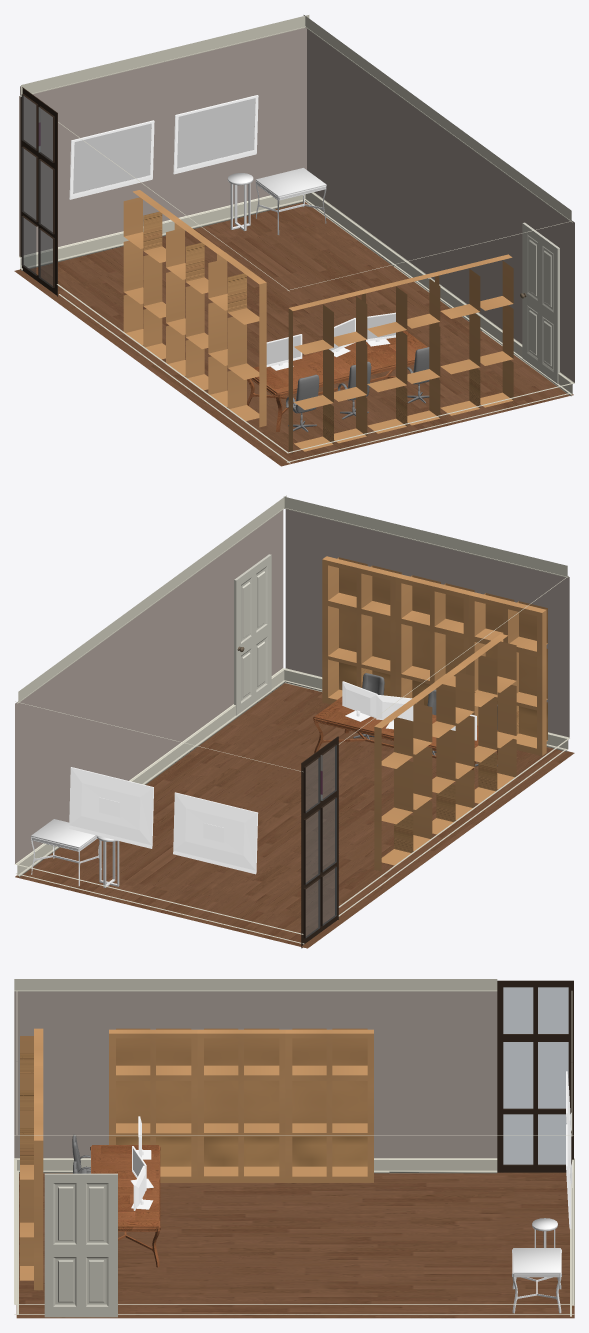
Rendered from Room_Traditional.glb.
3 renders of one model, top to bottom at view 1: azimuth 30°, elevation 25°; view 2: azimuth 150°, elevation 25°; view 3: azimuth 270°, elevation 25°, orthographic. The views are drawn at different scales.
Visible parts, largest first — view 1: Room_Traditional_Floor, Room_Traditional_Panel (1), Room_Traditional_Panel, Room_Traditional_Panel (5), Room_Traditional_Panel (8), Room_Traditional_Panel (4), TV_screen (×2), Room_Rustic_Window, Room_Rustic_Window (6), Room_Rustic_Window (2), Room_Rustic_Window (1), Room_Rustic_Window (5) (+12 smaller); view 2: Room_Traditional_Floor, Room_Traditional_Panel (8), Room_Traditional_Panel (5), Room_Traditional_Panel (11), Room_Traditional_Panel (4), TV (×2), Room_Traditional_Panel (2), Room_Rustic_Window (3), Room_Rustic_Window (4), Room_Rustic_Window (5), Room_Rustic_Window (2), Room_Rustic_Window (6) (+9 smaller); view 3: Room_Traditional_Floor, Room_Traditional_Panel (10), Room_Traditional_Panel (7), Room_Rustic_Window (6), Room_Rustic_Window (2), Room_Rustic_Window (1), Room_Traditional_Panel (9), Room_Rustic_Window, Room_Traditional_Door, Room_Rustic_Window (3), Patio_table_unity, Patio_table_unity (1) (+12 smaller).
Boxes of the visible parts, bbox=[...] form: Room_Traditional_Floor: bbox=[14, 202, 573, 466]; Room_Traditional_Panel (1): bbox=[163, 15, 309, 235]; Room_Traditional_Panel: bbox=[19, 50, 165, 270]; Room_Traditional_Panel (5): bbox=[303, 15, 397, 266]; Room_Traditional_Panel (8): bbox=[391, 79, 485, 330]; Room_Traditional_Panel (4): bbox=[481, 144, 574, 396]; TV_screen (×2): bbox=[73, 98, 255, 193]; Room_Rustic_Window: bbox=[208, 251, 266, 427]; Room_Rustic_Window (6): bbox=[20, 86, 57, 296]; Room_Rustic_Window (2): bbox=[123, 190, 181, 359]; Room_Rustic_Window (1): bbox=[166, 221, 223, 390]; Room_Rustic_Window (5): bbox=[288, 290, 367, 453]; Room_Traditional_Floor: bbox=[15, 683, 574, 948]; Room_Traditional_Panel (8): bbox=[103, 562, 196, 784]; Room_Traditional_Panel (5): bbox=[15, 625, 109, 877]; Room_Traditional_Panel (11): bbox=[283, 496, 429, 691]; Room_Traditional_Panel (4): bbox=[192, 495, 286, 747]; TV (×2): bbox=[69, 767, 258, 874]; Room_Traditional_Panel (2): bbox=[423, 530, 569, 751]; Room_Rustic_Window (3): bbox=[322, 556, 401, 704]; Room_Rustic_Window (4): bbox=[395, 574, 474, 705]; Room_Rustic_Window (5): bbox=[468, 592, 547, 755]; Room_Rustic_Window (2): bbox=[374, 695, 432, 871]; Room_Rustic_Window (6): bbox=[301, 736, 338, 948]; Room_Traditional_Floor: bbox=[16, 1172, 574, 1318]; Room_Traditional_Panel (10): bbox=[389, 979, 497, 1173]; Room_Traditional_Panel (7): bbox=[14, 979, 203, 1173]; Room_Rustic_Window (6): bbox=[497, 980, 573, 1172]; Room_Rustic_Window (2): bbox=[285, 1028, 373, 1182]; Room_Rustic_Window (1): bbox=[197, 1028, 285, 1182]; Room_Traditional_Panel (9): bbox=[199, 979, 389, 1173]; Room_Rustic_Window: bbox=[109, 1028, 197, 1182]; Room_Traditional_Door: bbox=[44, 1173, 117, 1317]; Room_Rustic_Window (3): bbox=[20, 1103, 43, 1290]; Patio_table_unity: bbox=[90, 1145, 160, 1267]; Patio_table_unity (1): bbox=[512, 1248, 561, 1313].
Size of the model in its own units: 5.73 by 3.52 by 9.08.
11 materials, 5 textured.
